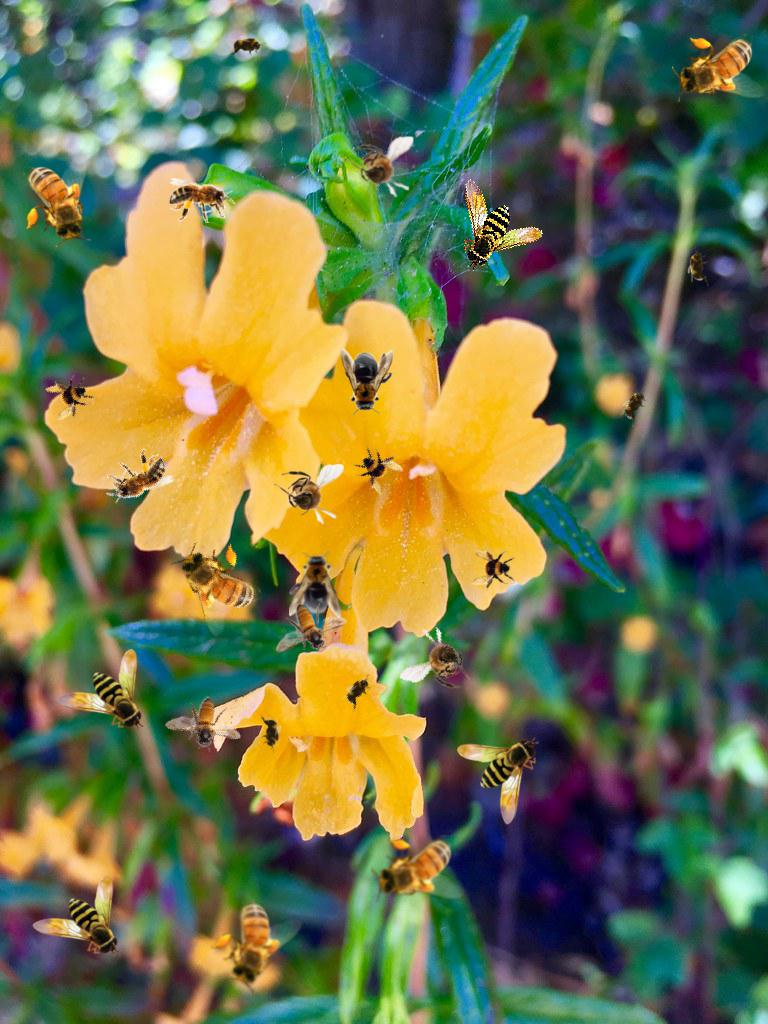Bee: (197, 884, 309, 1001), (165, 526, 271, 641), (439, 161, 547, 273), (56, 649, 144, 731), (457, 737, 539, 825), (32, 875, 120, 957), (163, 684, 251, 765), (398, 620, 485, 700), (672, 34, 765, 102), (23, 154, 91, 247), (371, 835, 464, 903), (96, 441, 176, 516), (343, 135, 418, 201), (274, 464, 344, 525), (347, 437, 409, 499), (41, 368, 101, 428), (276, 603, 347, 653), (289, 550, 341, 618), (341, 348, 393, 416), (169, 178, 235, 223), (336, 668, 380, 714), (471, 548, 515, 592), (614, 382, 656, 428), (227, 35, 267, 57), (260, 713, 282, 753), (687, 246, 709, 286)
